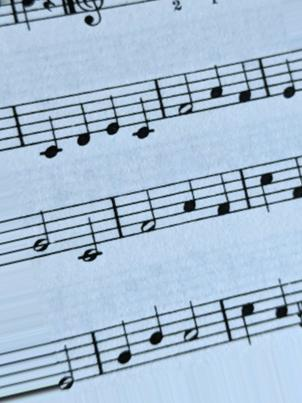note: (34, 97, 67, 162), (127, 80, 160, 143), (145, 301, 167, 369), (111, 319, 135, 381), (71, 88, 94, 151), (235, 290, 259, 349), (100, 84, 124, 140), (211, 169, 236, 221), (254, 158, 277, 212), (278, 45, 299, 104), (270, 278, 292, 334), (178, 175, 199, 229), (234, 59, 255, 108), (206, 64, 226, 114)
